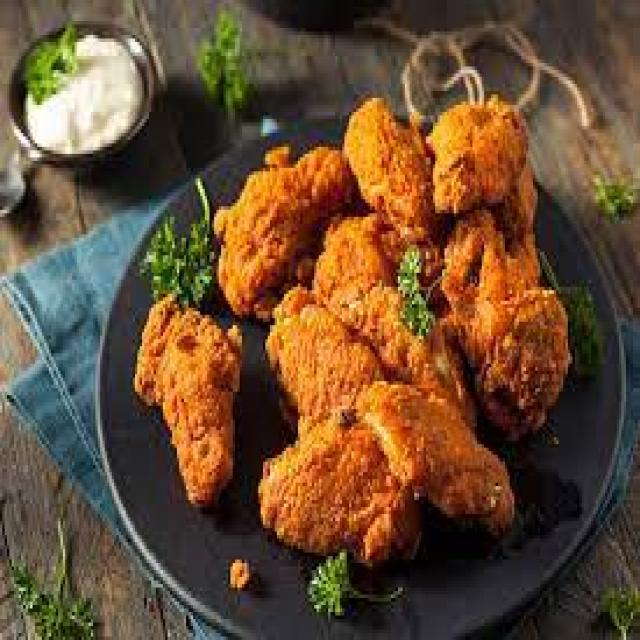Frango: (137, 91, 564, 563)
